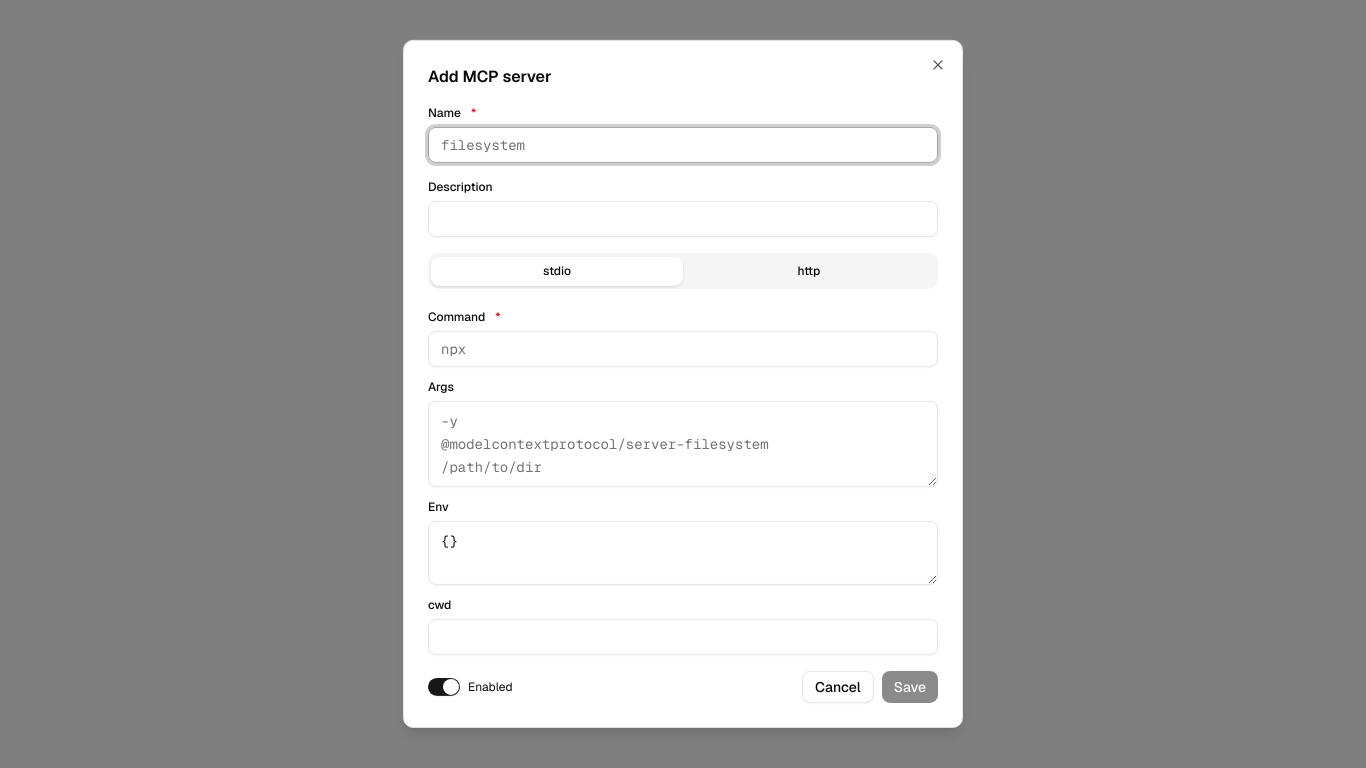
it: McpFormDialog › validation › Save disabled and headers error shown for invalid headers JSON
Type "test-server" into the field labelled "Name *" at {"x": 683, "y": 145}, box left=428, top=127, right=938, bottom=163
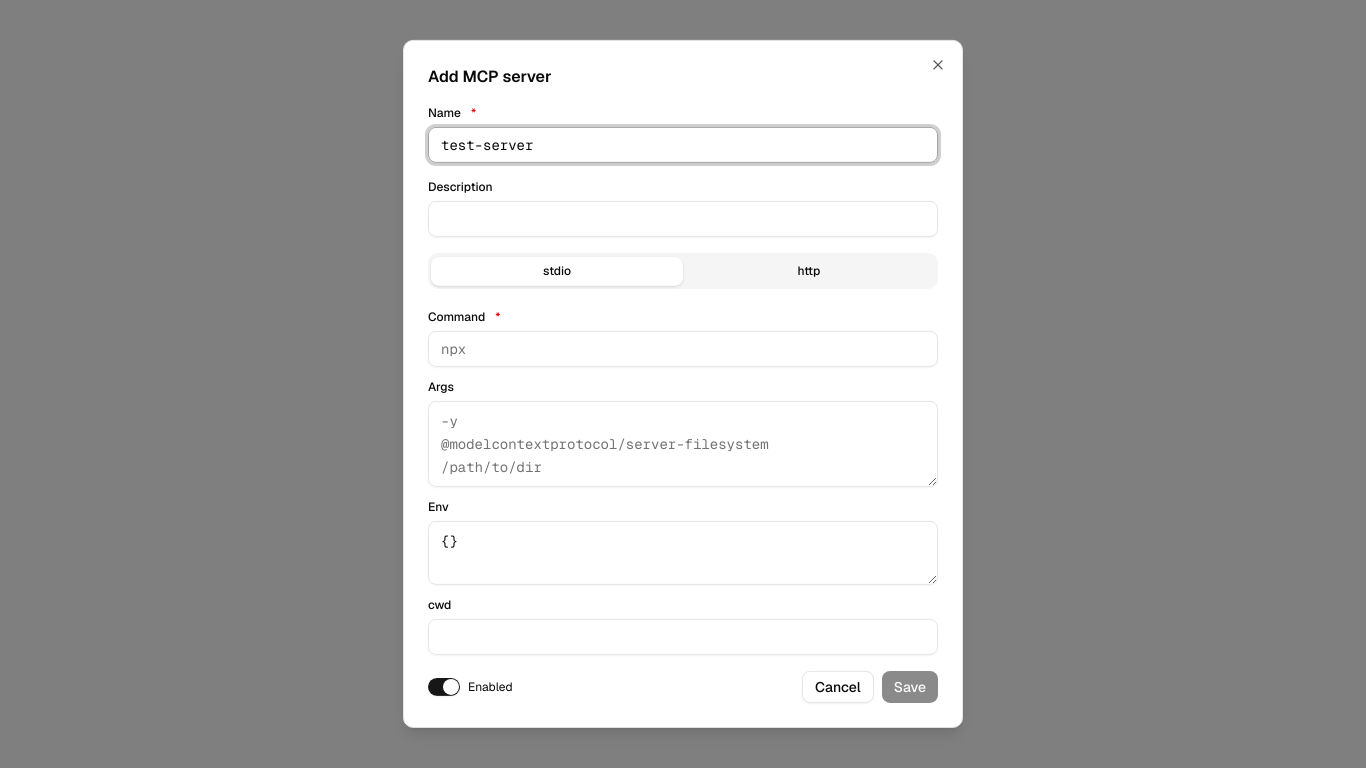
Click the tab "http" at {"x": 809, "y": 271}, box left=683, top=256, right=935, bottom=285
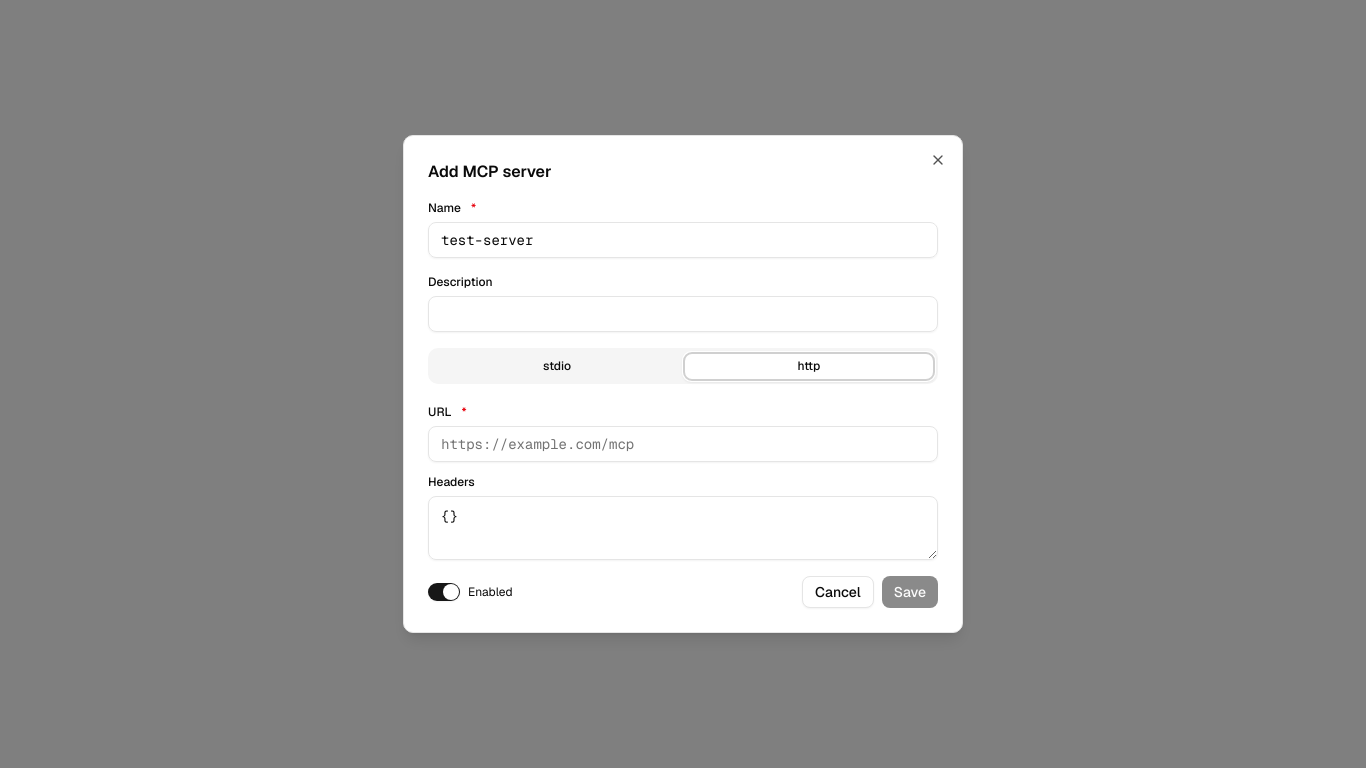
Type "https://example.com" into the field labelled "URL *" at {"x": 683, "y": 444}, box left=428, top=426, right=938, bottom=462
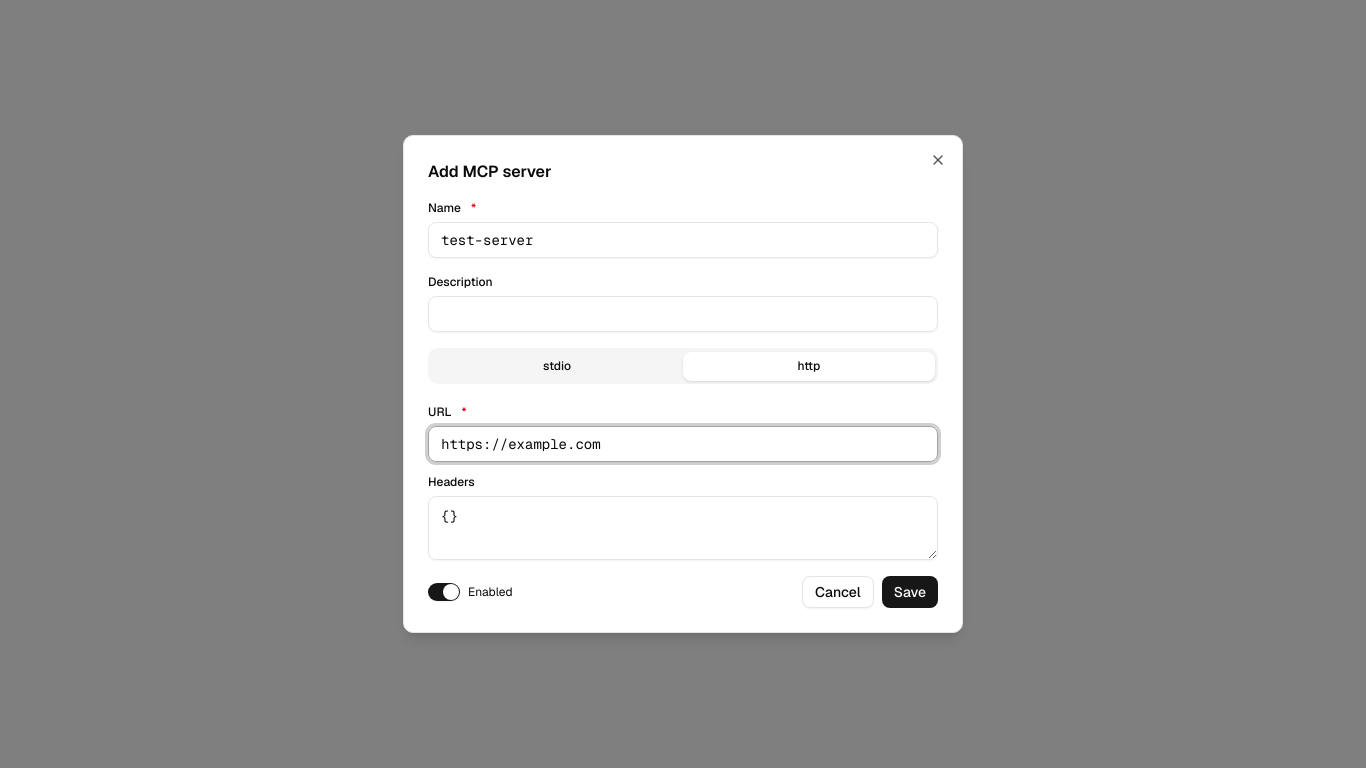
Replace the text in the text box labelled "Headers" with "not json" at {"x": 683, "y": 528}, box left=428, top=496, right=938, bottom=560
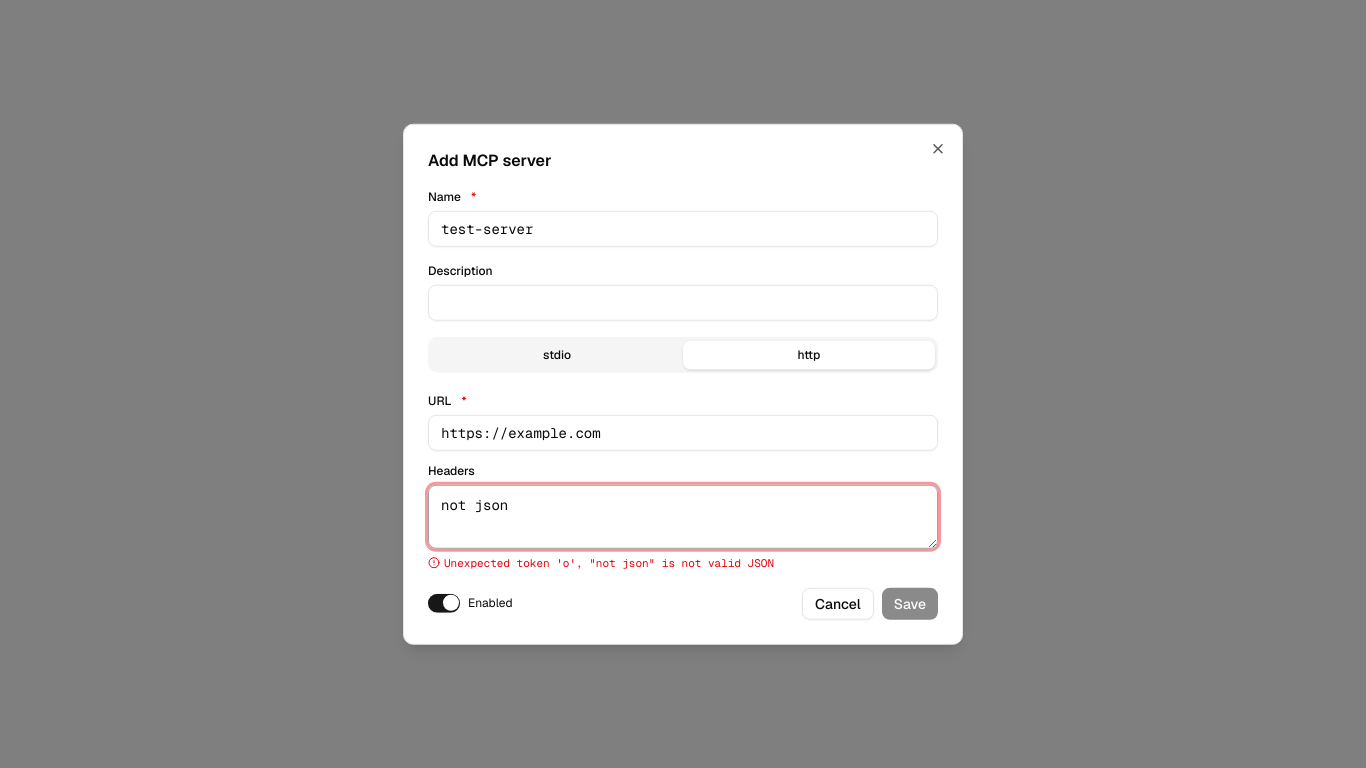
Now the button "Save" is disabled, box left=882, top=587, right=938, bottom=619
